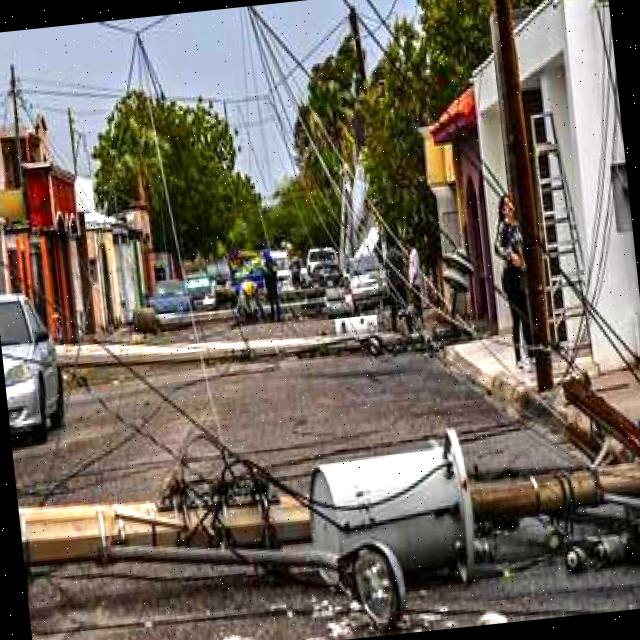Broken Pole: (19, 429, 640, 620), (60, 325, 427, 369)
